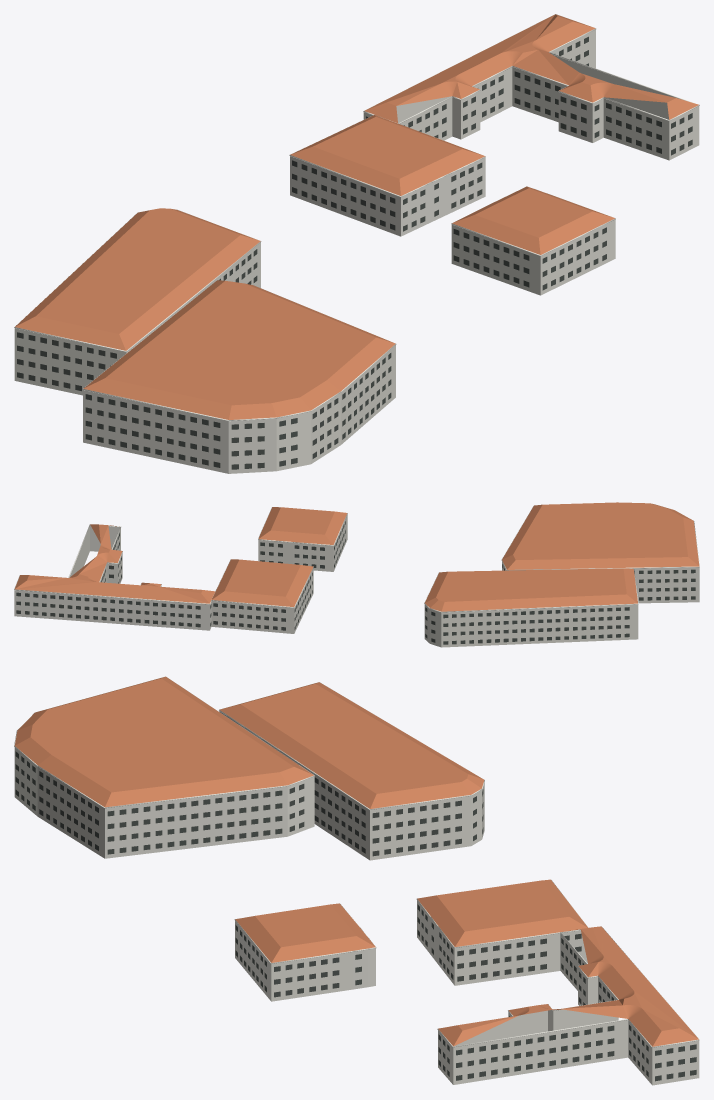
Rendered from long-xuyen-canal-courtyard.glb.
3 renders of one model, top to bottom at view 1: azimuth 30°, elevation 25°; view 2: azimuth 150°, elevation 25°; view 3: azimuth 270°, elevation 25°, orthographic. The views are drawn at different scales.
Visible parts, largest first — view 1: Canal_courtyard_campusroof, Canal_courtyard_white, Canal_courtyard_dark; view 2: Canal_courtyard_campusroof, Canal_courtyard_white, Canal_courtyard_dark; view 3: Canal_courtyard_campusroof, Canal_courtyard_white, Canal_courtyard_dark.
Boxes of the visible parts, x1=… form: Canal_courtyard_campusroof: x1=15, y1=14, x2=698, y2=419; Canal_courtyard_white: x1=14, y1=14, x2=699, y2=473; Canal_courtyard_dark: x1=17, y1=36, x2=692, y2=469; Canal_courtyard_campusroof: x1=15, y1=502, x2=699, y2=611; Canal_courtyard_white: x1=14, y1=506, x2=699, y2=647; Canal_courtyard_dark: x1=16, y1=521, x2=695, y2=644; Canal_courtyard_campusroof: x1=14, y1=676, x2=698, y2=1046; Canal_courtyard_white: x1=14, y1=676, x2=699, y2=1085; Canal_courtyard_dark: x1=15, y1=751, x2=696, y2=1081.
Bounding box in the file's own units: 217 × 16.62 × 176.
